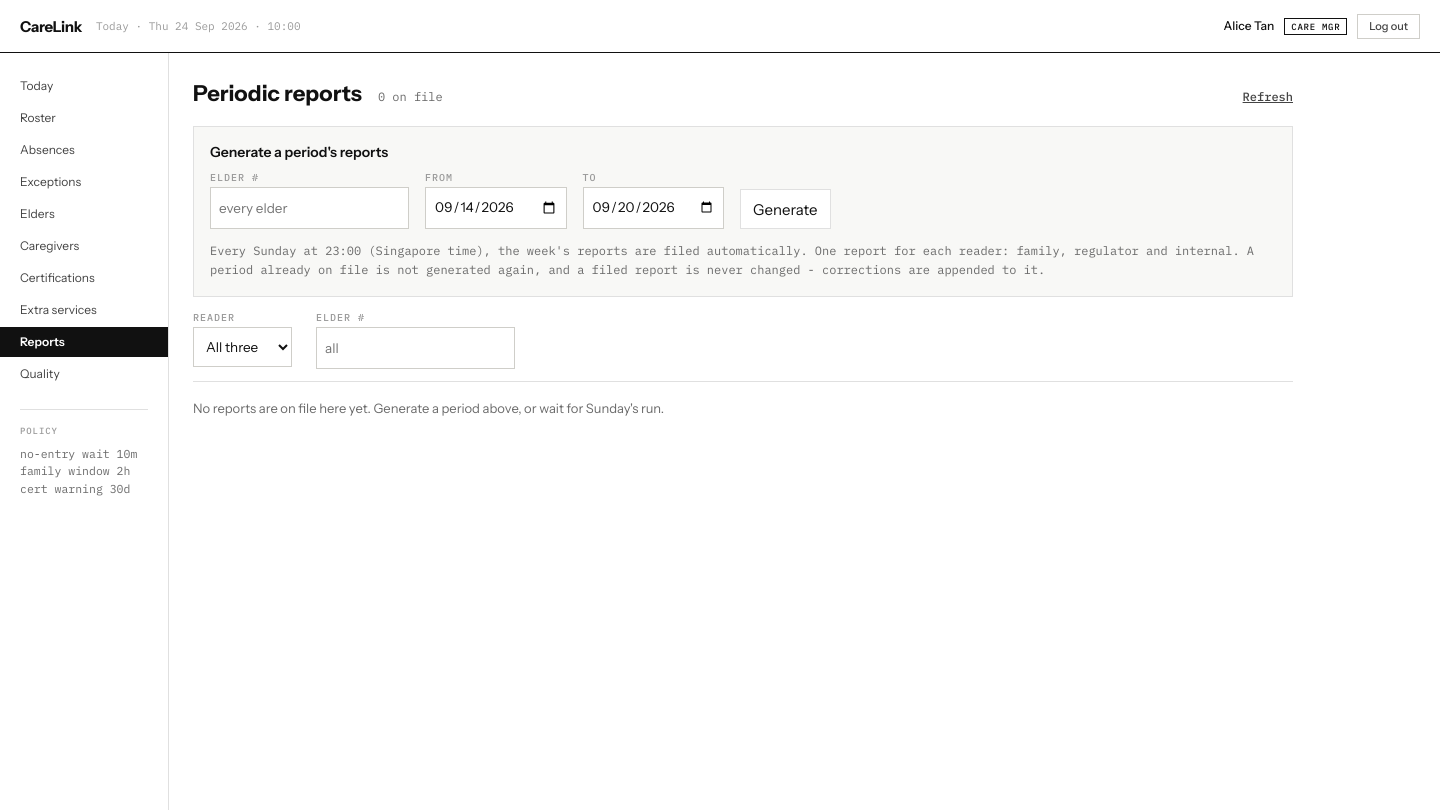
Test case: the report list › names the elder when the manager asks for one
Type "1" into the field labelled "Elder #" below "From". click: (310, 208)
box: left=210, top=187, right=409, bottom=229
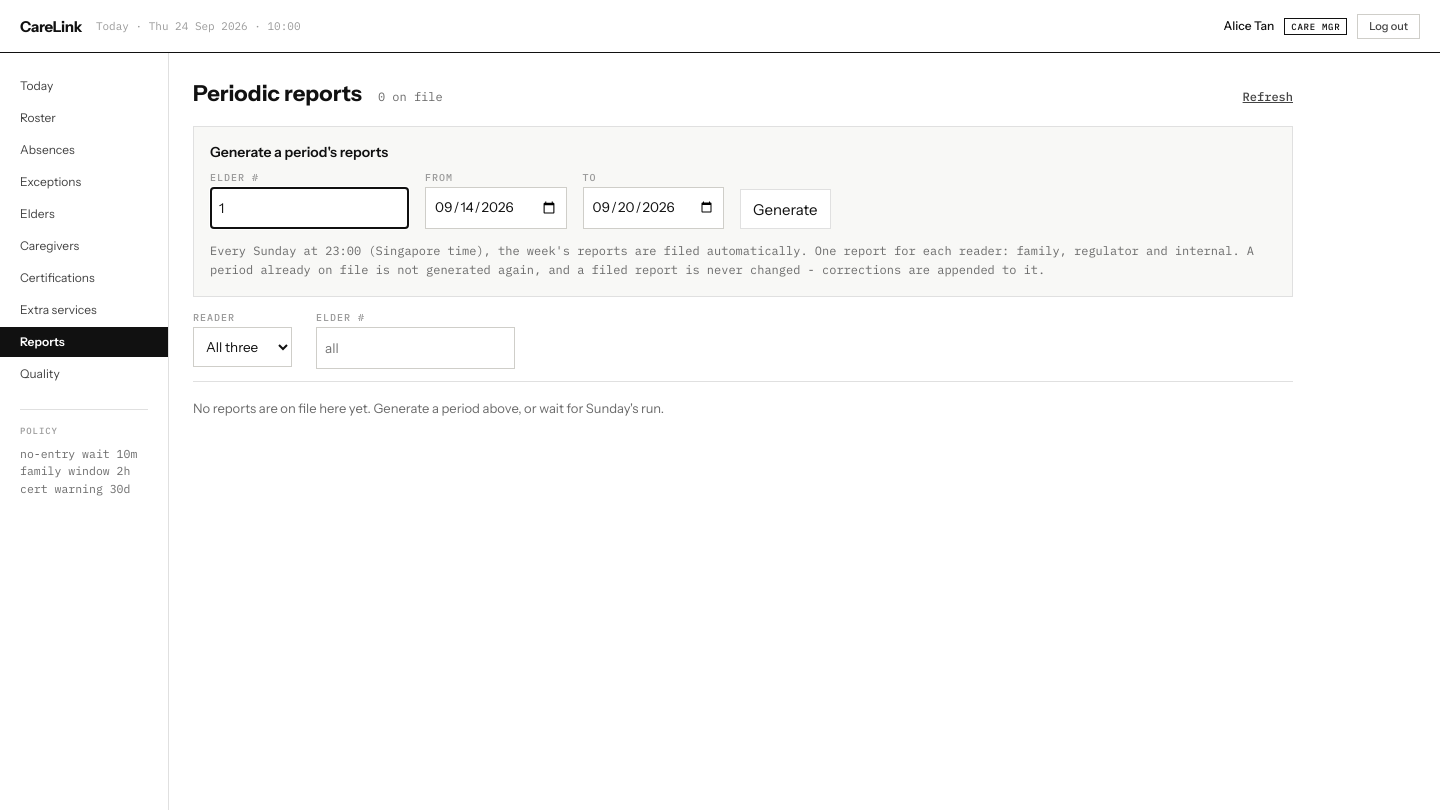
Click the button "Generate". click: click(785, 209)
box: left=740, top=189, right=830, bottom=229
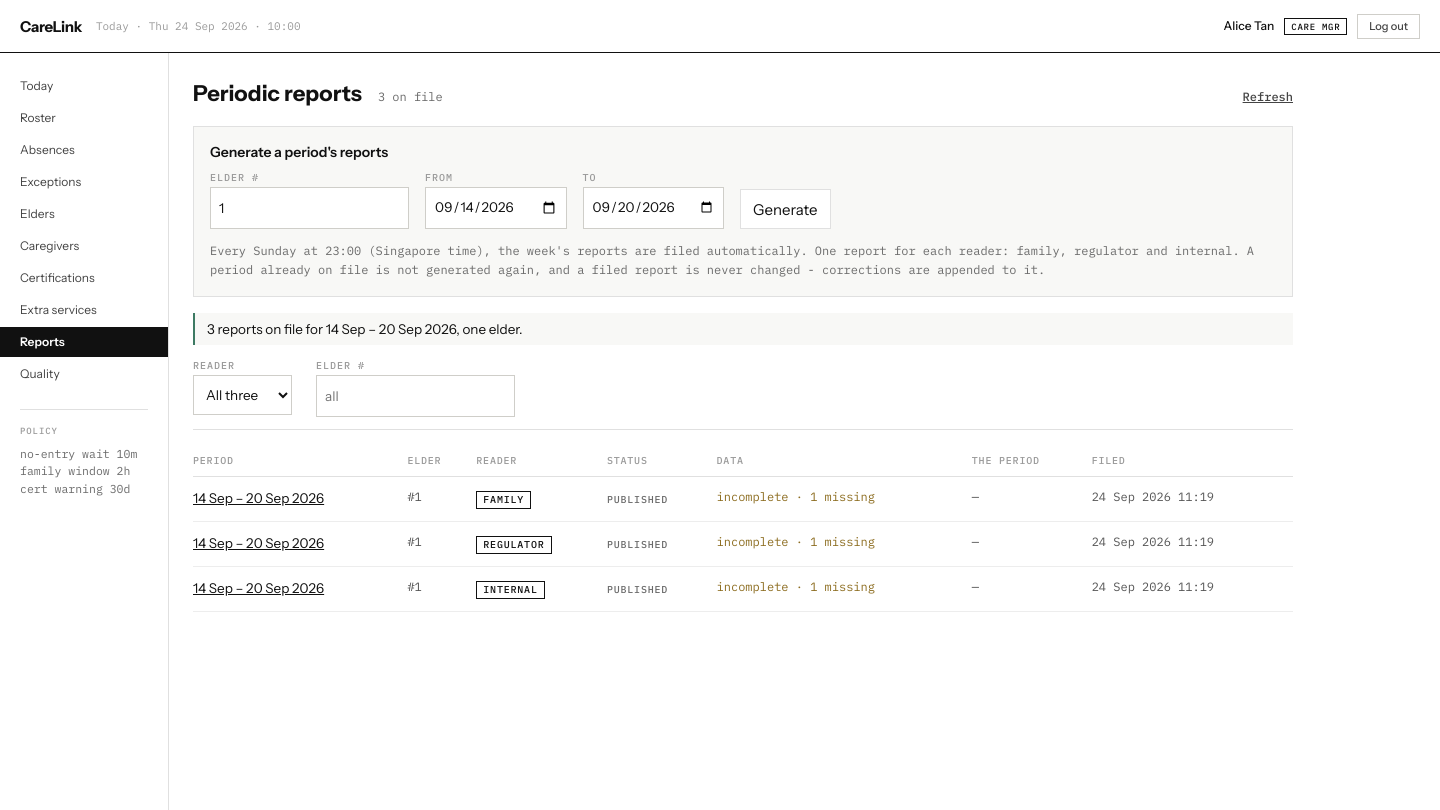
expect the message "3 reports on file for 14 Sep – 20 Sep 2026, one elder." is shown: met, box left=193, top=313, right=1293, bottom=345
